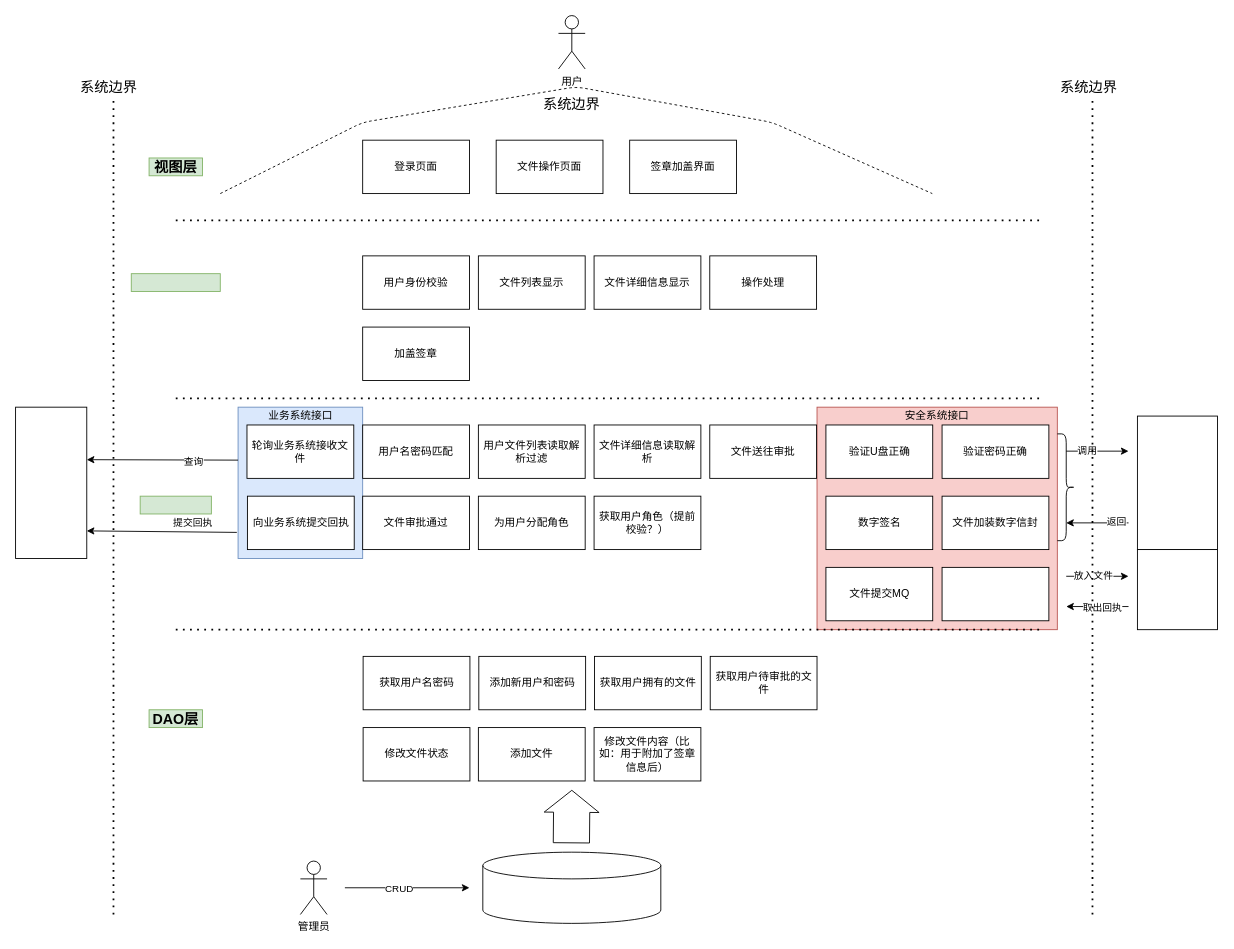
The diagram is 1234 pixels wide and 949 high, and some of its shapes have lost their labels. Here are the shapes that lost their labels. From the top down, the centre of each, then its label:
point 175,282: Controller层
point 51,482: 业务系统
point 1177,482: 安全系统
point 175,504: Service层
point 995,593: 轮询MQ接收文件
point 1177,589: MQ
point 571,887: MySQL数据库
